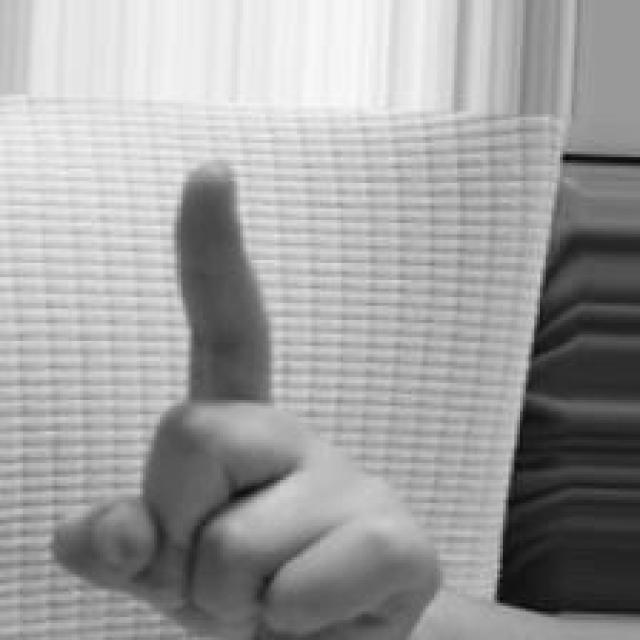I: (50, 156, 446, 640)
